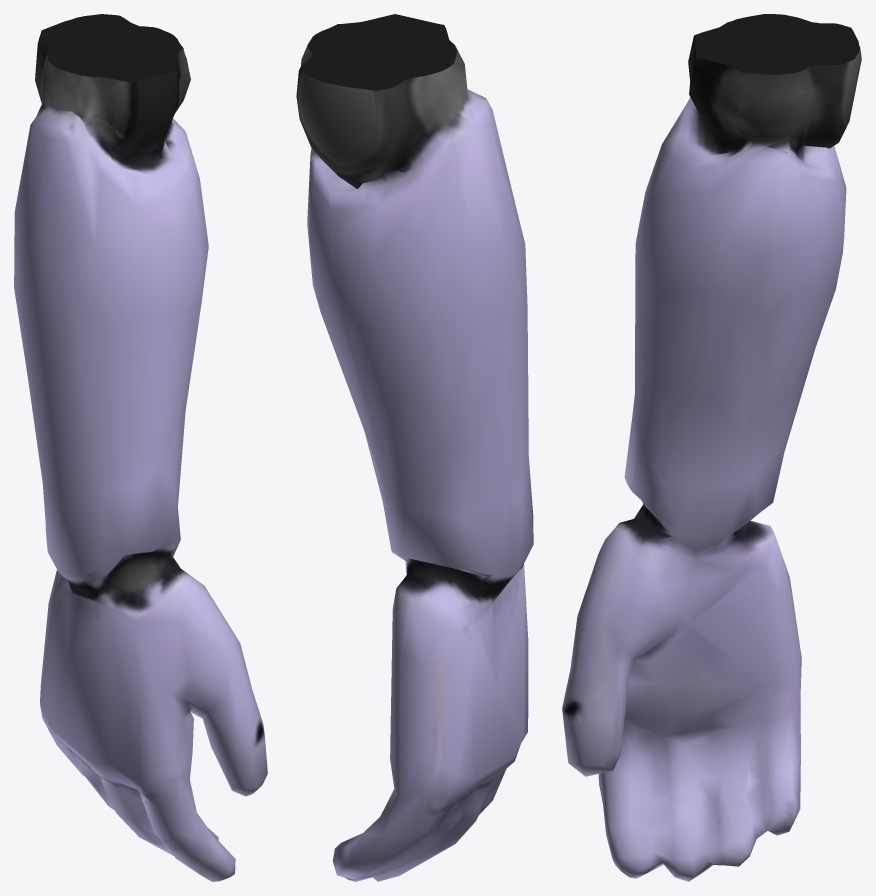
File: DummyForeArmR.obj
The picture shows the model from 3 angles, left to right: view 1: azimuth 30°, elevation 25°; view 2: azimuth 150°, elevation 25°; view 3: azimuth 270°, elevation 25°; orthographic projection. The views are drawn at different scales.
Size of the model in its own units: 1.65 by 7.37 by 2.46.
1 material, 1 textured.
